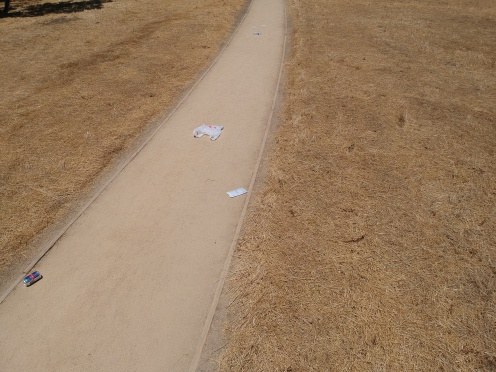bottle: (250, 30, 263, 34)
can: (19, 266, 45, 286)
plastic bag: (192, 120, 227, 141)
